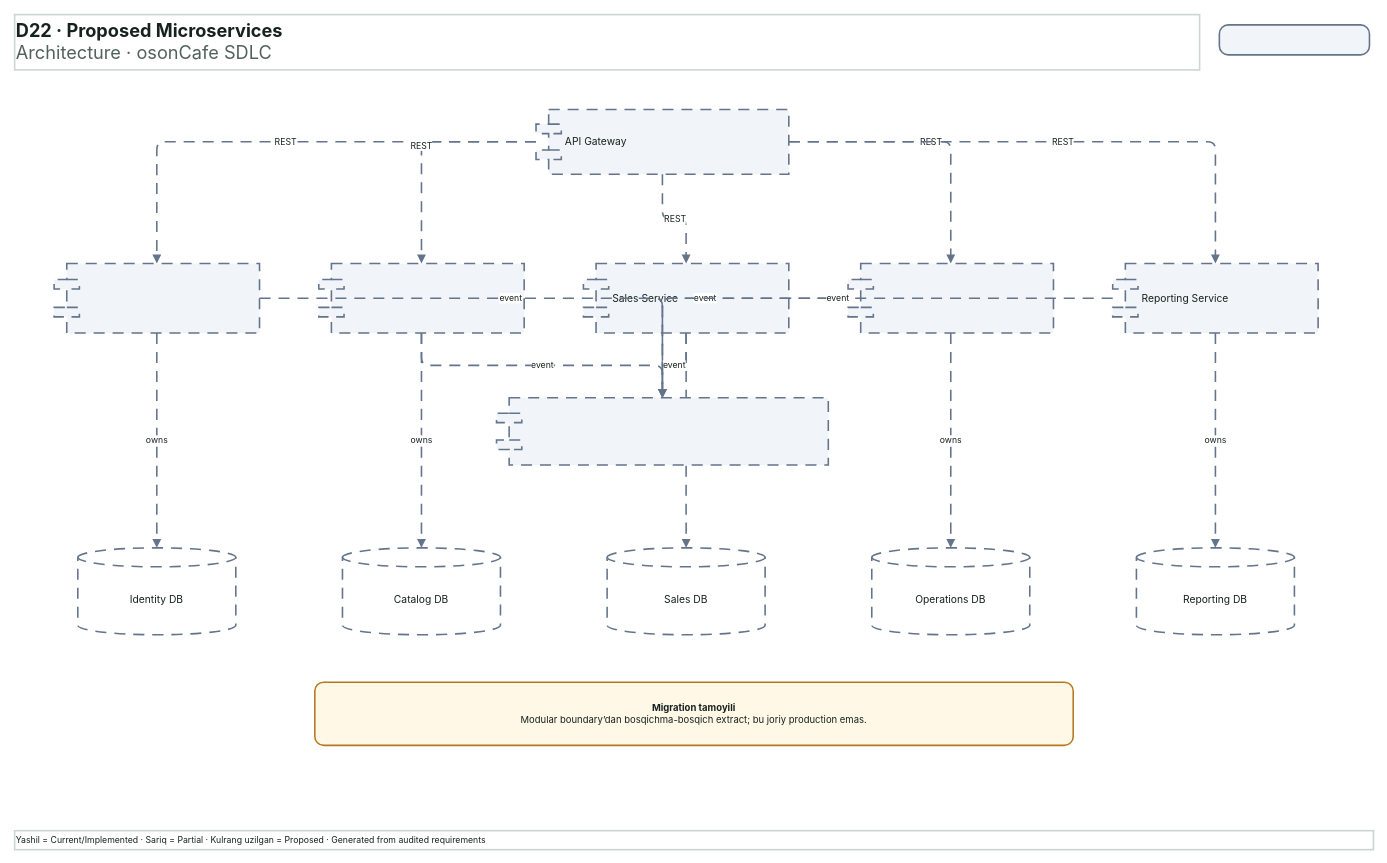
Image size: 1387x863. Some labels were removed from this diagram. The shapes that lost their labels are listed below. From the top down, each one's box as (x1, y1, x2, y2) in pixels, then its label:
(1218, 24, 1370, 55): Proposed
(53, 262, 260, 333): Identity Service
(318, 262, 525, 333): Catalog Service
(847, 262, 1054, 333): Operations Service
(495, 397, 829, 465): Message Broker domain events
